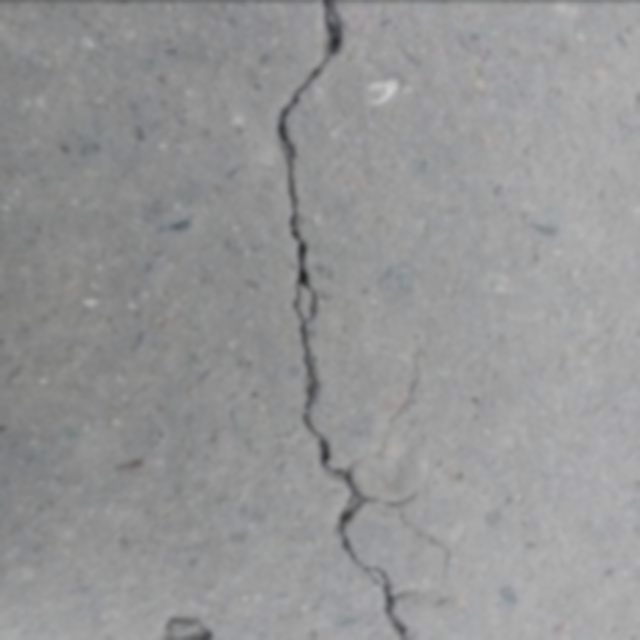SurfaceCrack: (254, 0, 452, 640)
